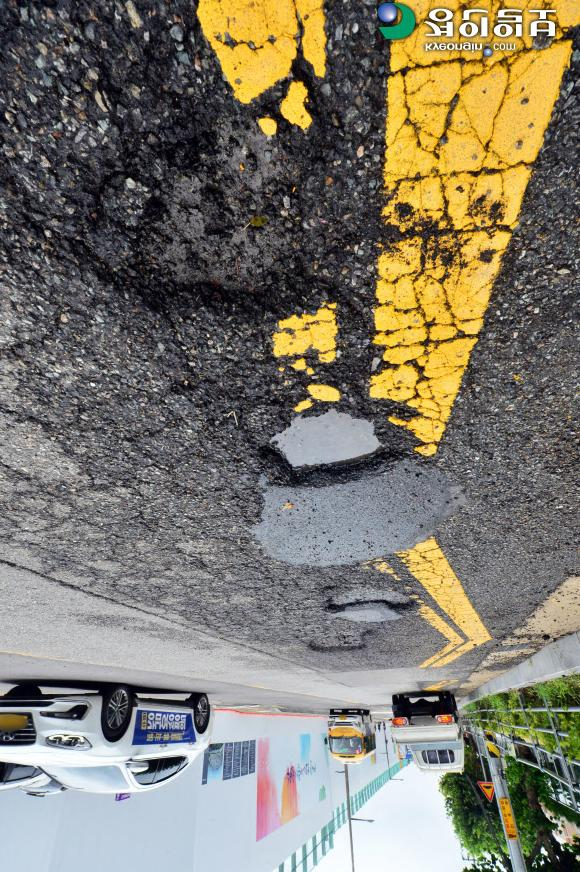pothole: (235, 404, 396, 518), (316, 580, 436, 625), (305, 625, 375, 673)
